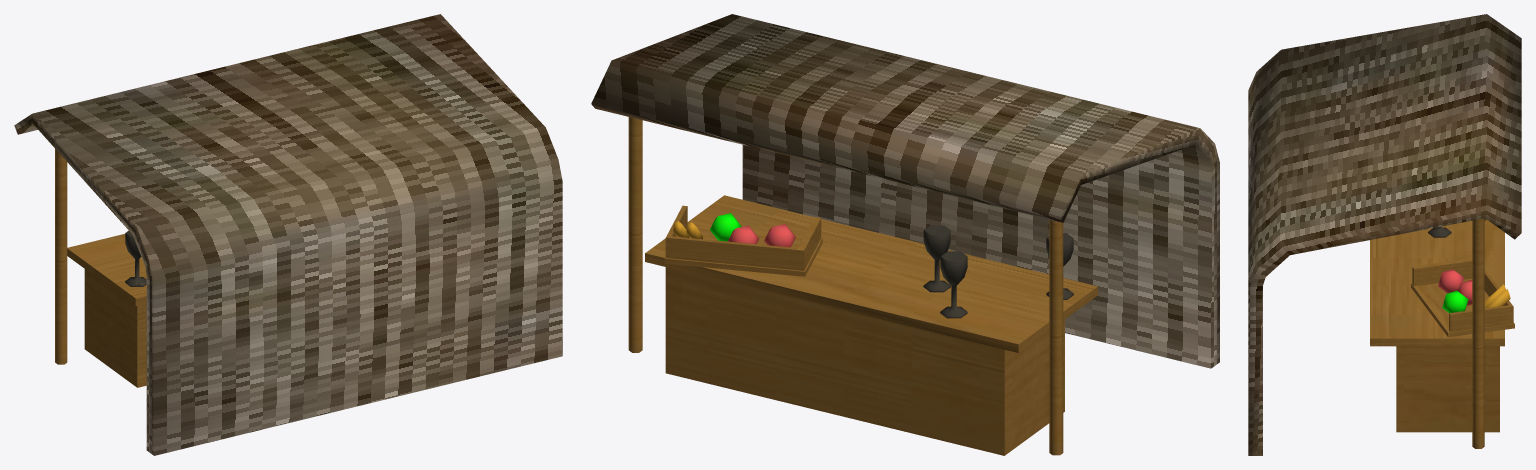
The model's file is stall.glb.
3 renders of one model, left to right at view 1: azimuth 30°, elevation 25°; view 2: azimuth 150°, elevation 25°; view 3: azimuth 270°, elevation 25°, orthographic. The views are drawn at different scales.
Parts seen in each view (by area): view 1: Cube.001; view 2: Cube.001; view 3: Cube.001.
Part boxes in pixels (box(x1,y1,x2,y2)): Cube.001: box(14, 14, 562, 455); Cube.001: box(591, 14, 1219, 455); Cube.001: box(1248, 14, 1521, 455).
Size of the model in its own units: 8.92 by 5.32 by 5.29.
1 material, 1 textured.
